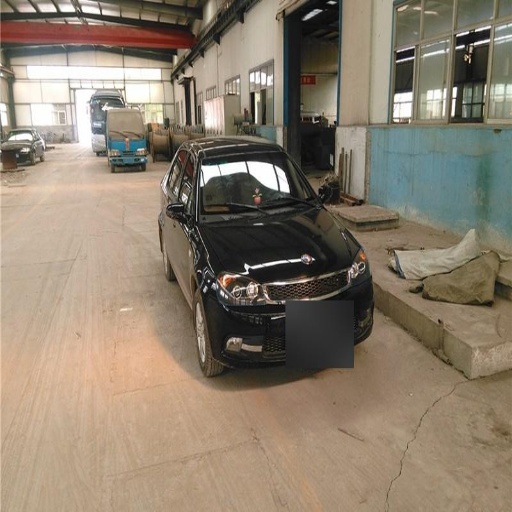front_bumper: (212, 265, 371, 364)
hood: (216, 204, 354, 279)
